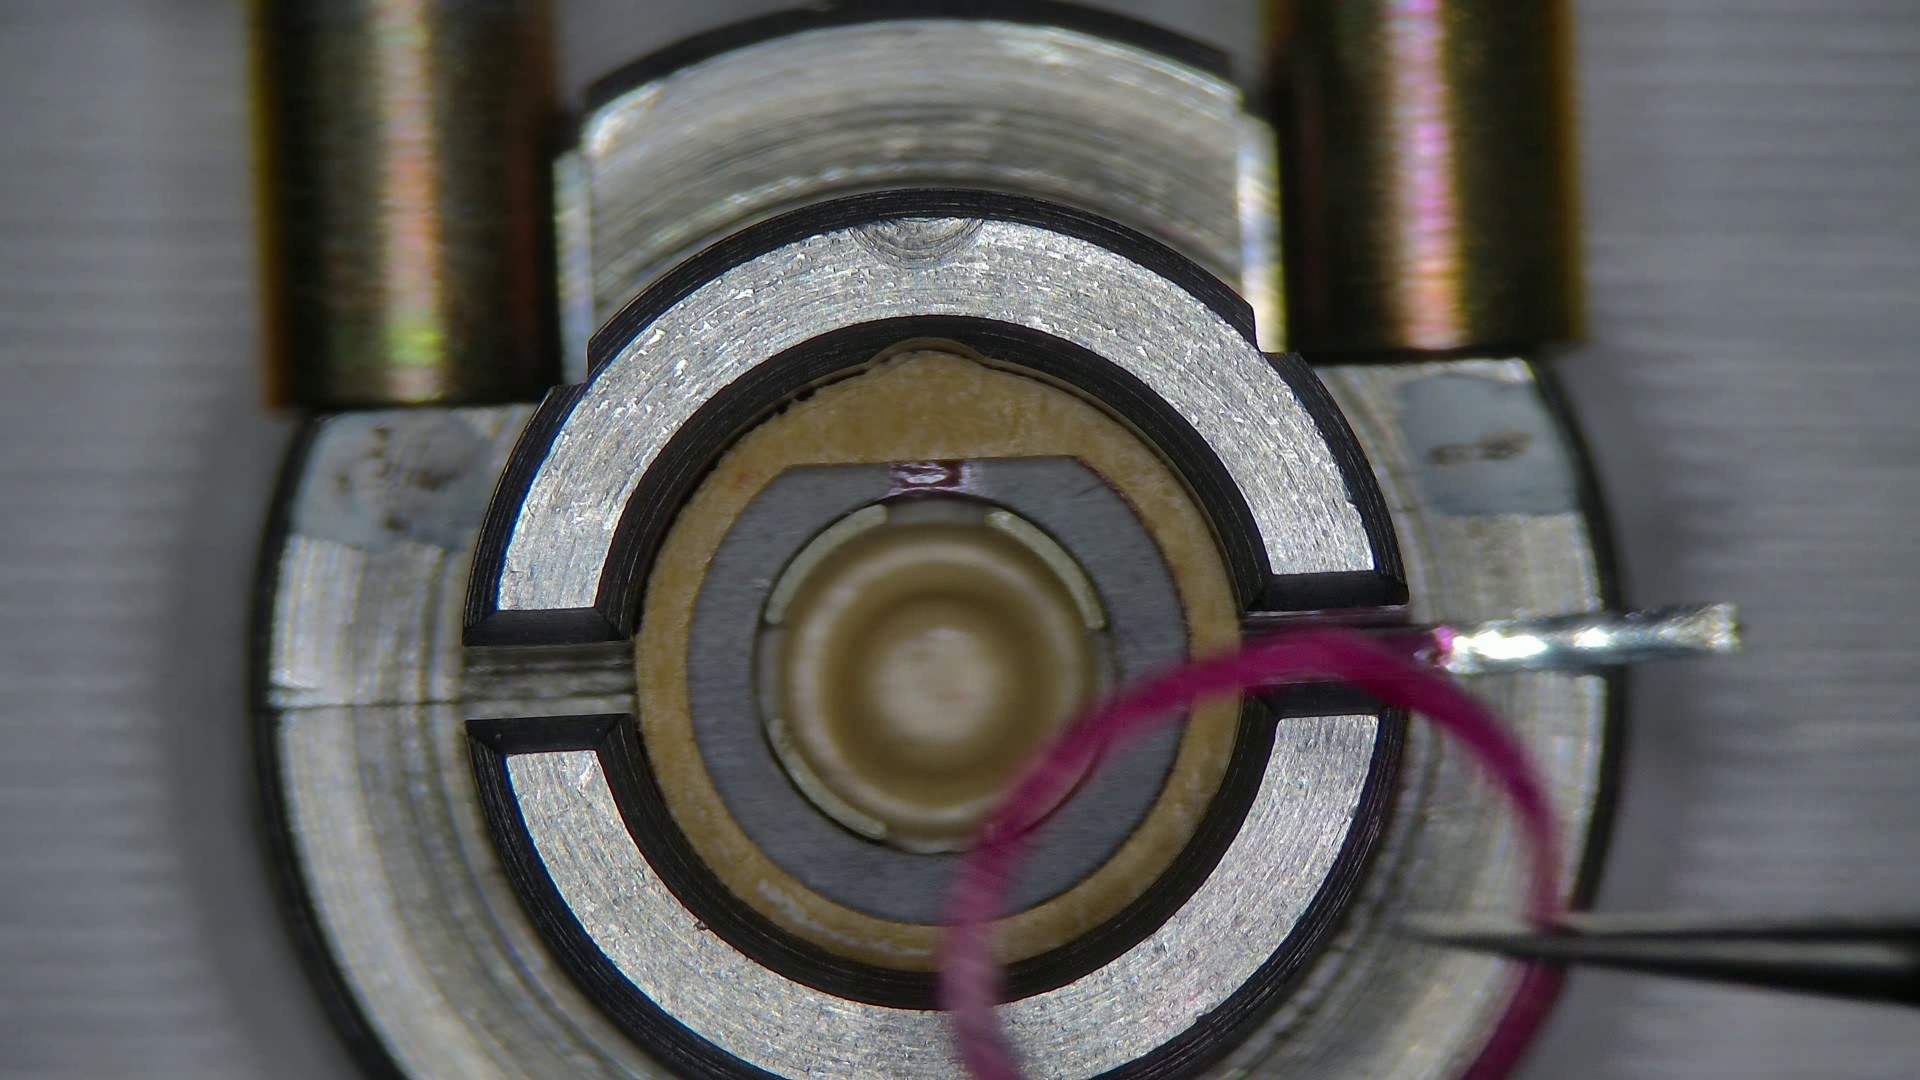GreyOring: (939, 633, 1569, 1069), (1468, 963, 1561, 1069)
YellowOring: (688, 459, 1182, 919), (1001, 727, 1182, 911)
redOring: (636, 349, 1244, 969), (1015, 709, 1236, 953)
